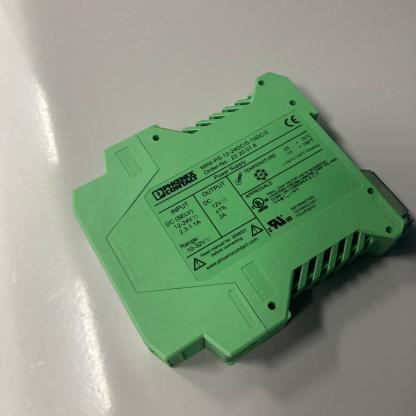SP0000011: (55, 55, 415, 379)
